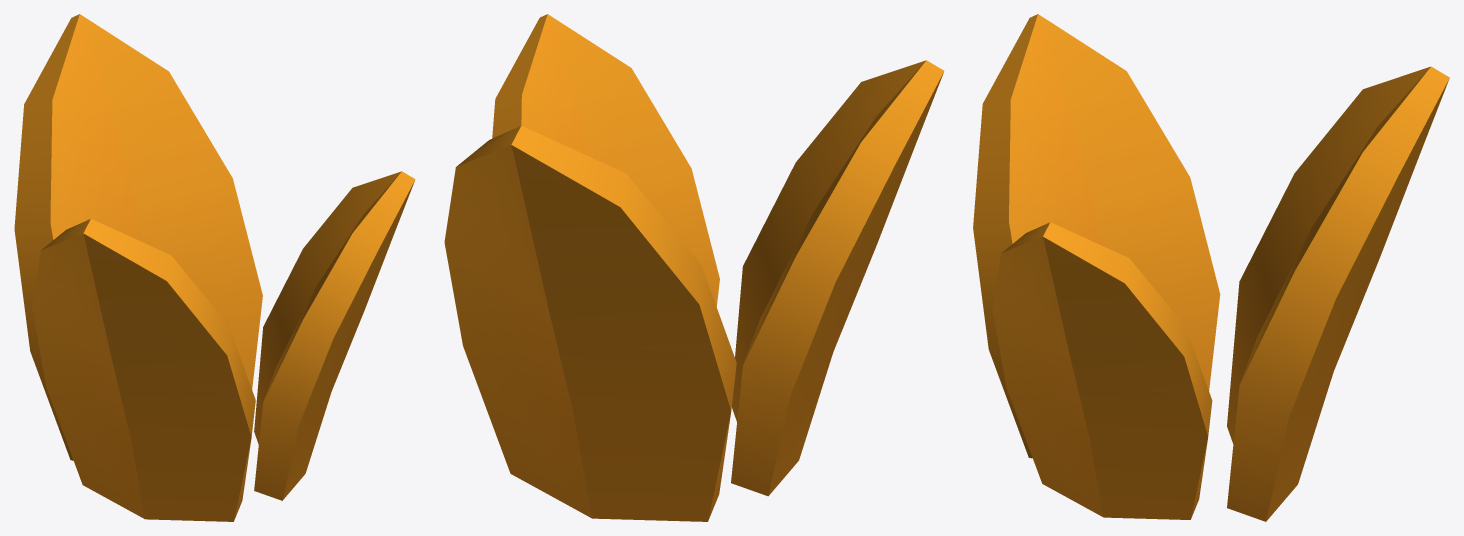
The model's file is Grass_1_B_Color6.fbx.
3 renders of one model, left to right at view 1: azimuth 30°, elevation 25°; view 2: azimuth 150°, elevation 25°; view 3: azimuth 270°, elevation 25°, orthographic. The views are drawn at different scales.
Parts seen in each view (by area): view 1: Grass_1_B_Color6; view 2: Grass_1_B_Color6; view 3: Grass_1_B_Color6.
Boxes of the visible parts, <box> form: Grass_1_B_Color6: <box>14,14,415,521</box>; Grass_1_B_Color6: <box>444,14,944,521</box>; Grass_1_B_Color6: <box>973,14,1449,521</box>.
Size of the model in its own units: 0.5051 by 0.5375 by 0.5557.
